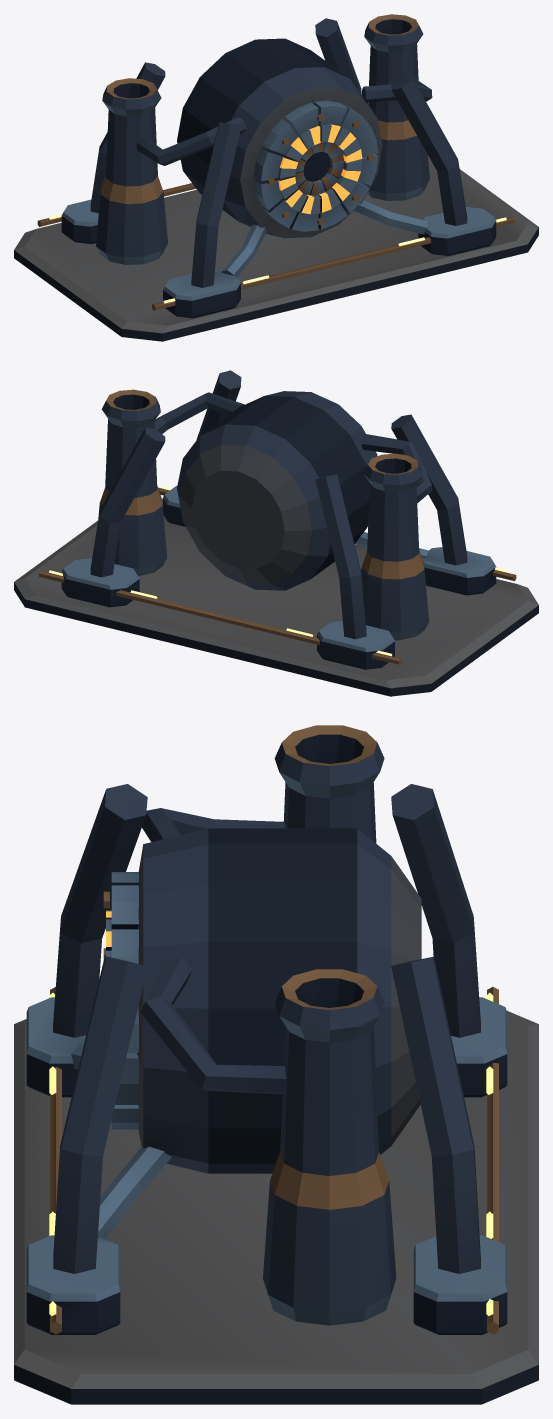
The model's file is forge-furnace-bank.glb.
The picture shows the model from 3 angles, top to bottom: view 1: azimuth 30°, elevation 25°; view 2: azimuth 150°, elevation 25°; view 3: azimuth 270°, elevation 25°; orthographic projection. The views are drawn at different scales.
Parts seen in each view (by area): view 1: forge-furnace-bank; view 2: forge-furnace-bank; view 3: forge-furnace-bank.
Boxes of the visible parts, x1,y1,x2,y2 form: forge-furnace-bank: [14, 14, 538, 341]; forge-furnace-bank: [14, 370, 538, 696]; forge-furnace-bank: [14, 725, 538, 1404].
Size of the model in its own units: 11.6 by 5.19 by 6.62.
